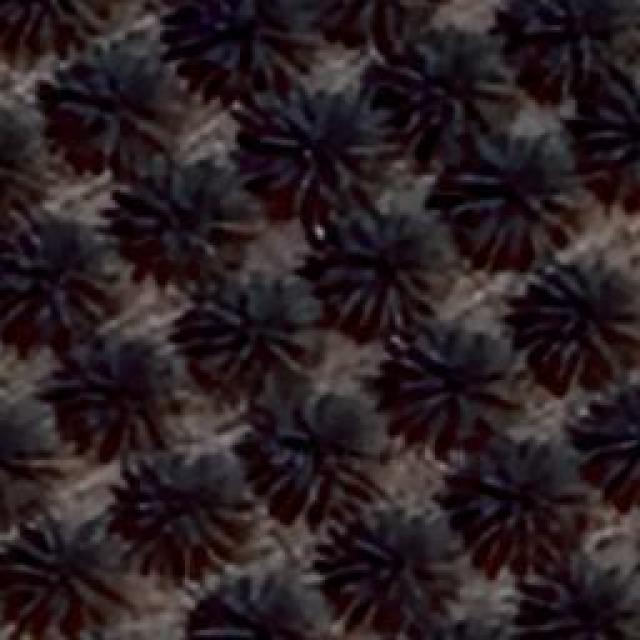PalmTree: (442, 128, 588, 262), (385, 322, 525, 442), (258, 82, 398, 202), (315, 208, 450, 332), (23, 32, 145, 165), (258, 392, 380, 518), (0, 511, 118, 634), (385, 22, 510, 136), (190, 275, 320, 380), (128, 452, 245, 568), (56, 58, 176, 168), (335, 516, 445, 636), (520, 255, 638, 365), (128, 180, 248, 280), (68, 344, 182, 448), (5, 228, 120, 322), (522, 547, 636, 635), (185, 0, 310, 80), (464, 450, 558, 555), (518, 0, 631, 82), (570, 386, 640, 516), (205, 572, 325, 640), (582, 70, 638, 168), (0, 406, 45, 518), (311, 0, 440, 36), (396, 615, 526, 640), (388, 624, 526, 640), (411, 622, 527, 640)
